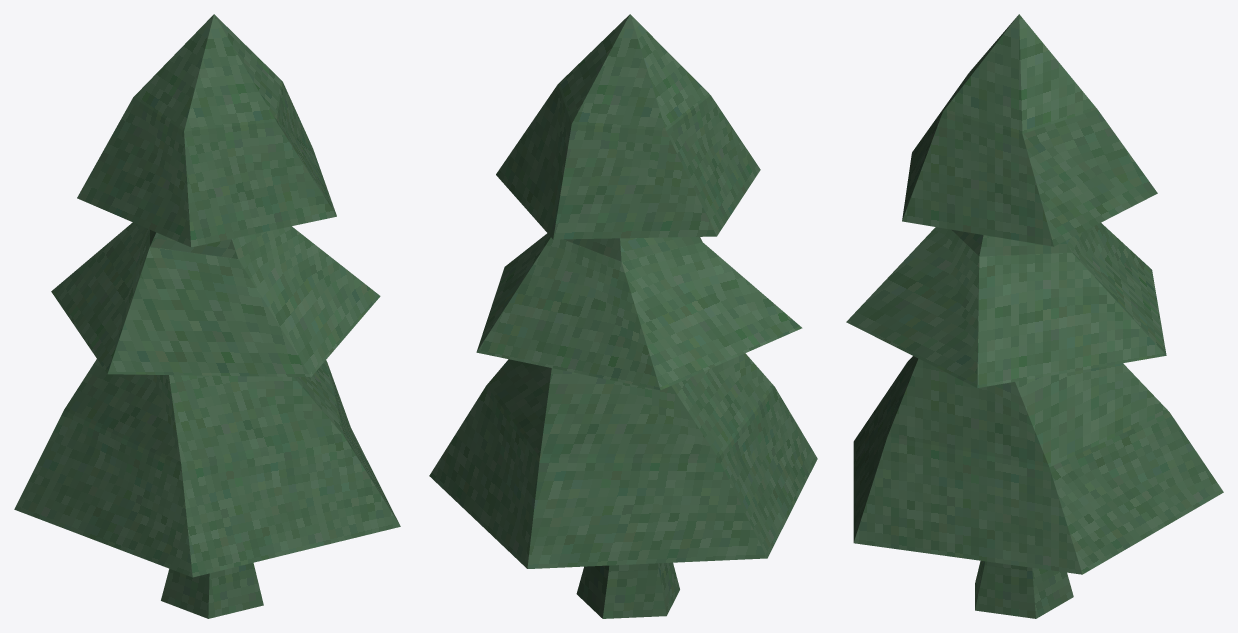
File: Tree.fbx
3 views of the same model, side by side, from view 1: azimuth 30°, elevation 25°; view 2: azimuth 150°, elevation 25°; view 3: azimuth 270°, elevation 25° (orthographic).
Parts seen in each view (by area): view 1: Tree; view 2: Tree; view 3: Tree.
Part boxes in pixels (x1=…): Tree: x1=14, y1=14, x2=400, y2=618; Tree: x1=429, y1=14, x2=817, y2=618; Tree: x1=846, y1=14, x2=1223, y2=618.
Size of the model in its own units: 1.52 by 1.48 by 2.52.
